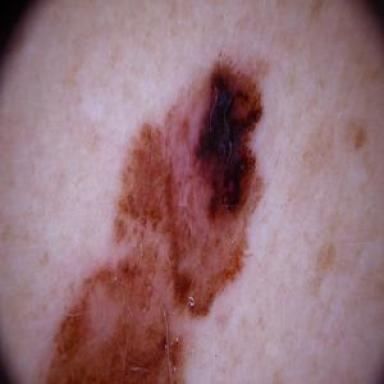Melanoma: (47, 61, 262, 384)
